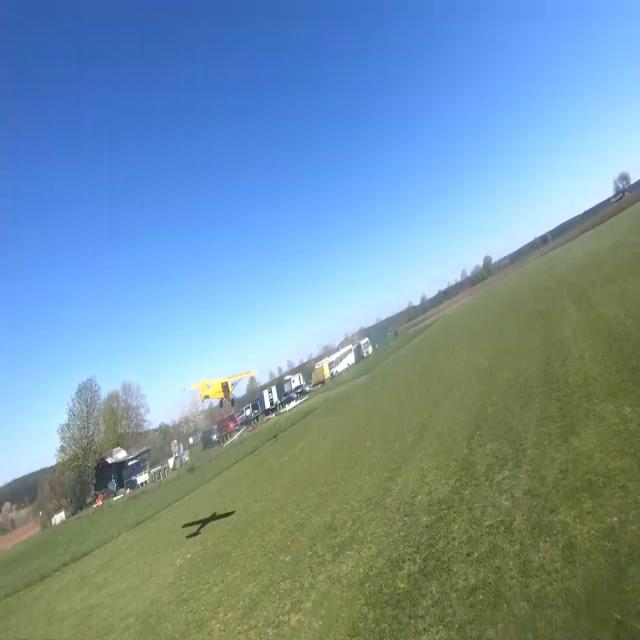iha: (222, 366, 224, 410)
